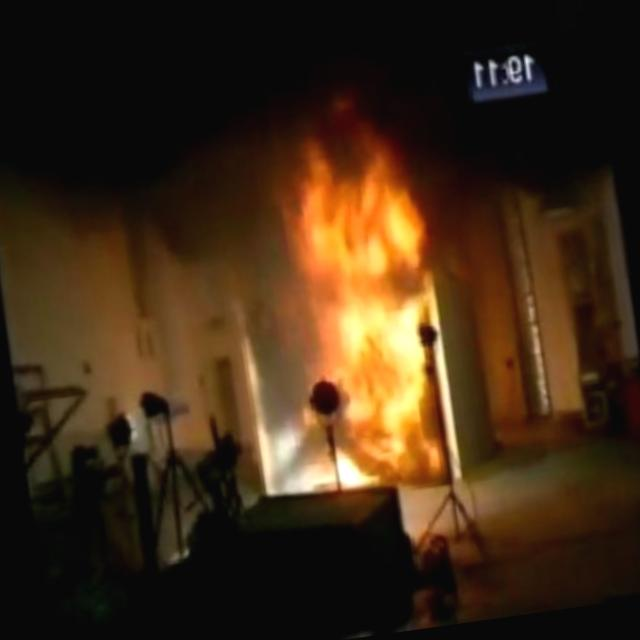fire: (252, 126, 460, 483)
smoke: (0, 0, 619, 237)
